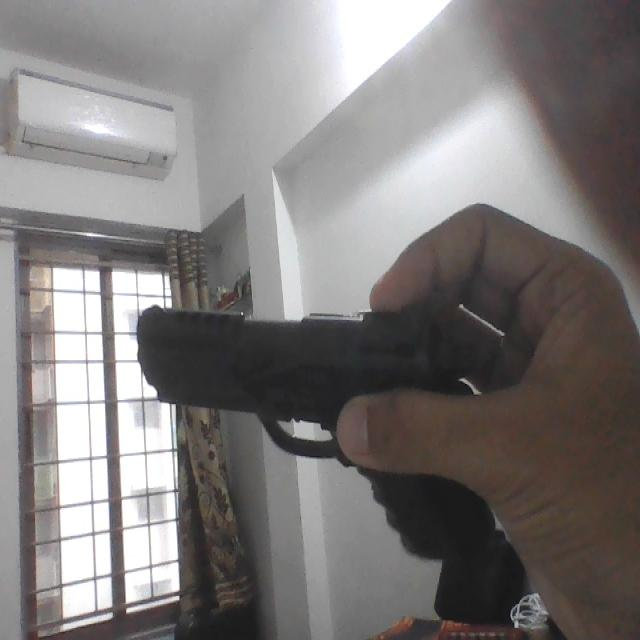handgun: (134, 300, 499, 564)
